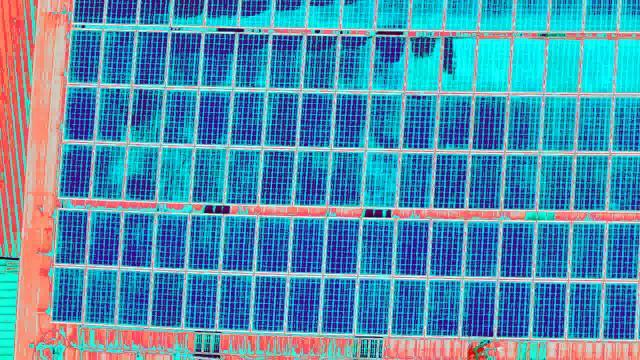dirty: (408, 38, 439, 90), (443, 38, 474, 90), (478, 38, 509, 90), (511, 39, 542, 91), (547, 40, 578, 92), (583, 39, 614, 91), (618, 39, 640, 92)
semi: (567, 283, 599, 338), (533, 281, 565, 336), (497, 281, 529, 336), (463, 279, 495, 334), (429, 281, 461, 336), (393, 278, 425, 333), (357, 279, 389, 334), (322, 278, 354, 333), (288, 277, 320, 332), (253, 276, 285, 331), (220, 275, 252, 330), (186, 273, 218, 328), (152, 272, 184, 327), (120, 269, 152, 324), (84, 269, 116, 324), (51, 266, 83, 321), (338, 35, 369, 91), (372, 37, 403, 93), (65, 85, 96, 141), (99, 87, 130, 143), (132, 87, 163, 143), (165, 88, 196, 144), (198, 90, 229, 146), (234, 91, 265, 147), (267, 91, 298, 147), (300, 91, 331, 147), (335, 94, 366, 150), (369, 92, 400, 148), (403, 93, 434, 149), (438, 95, 469, 151), (473, 93, 504, 149), (509, 95, 540, 151), (545, 94, 576, 150), (579, 94, 610, 150), (609, 153, 640, 209), (575, 153, 606, 209), (541, 153, 572, 209), (505, 155, 536, 211), (472, 153, 503, 209), (435, 152, 466, 208), (400, 152, 431, 208), (367, 151, 398, 207), (332, 150, 363, 206), (297, 150, 328, 206), (264, 148, 295, 204), (230, 147, 261, 203), (196, 147, 227, 203), (161, 144, 192, 200), (127, 144, 158, 200), (93, 144, 124, 200), (61, 142, 92, 198), (70, 28, 99, 84), (104, 29, 133, 85), (138, 29, 167, 85), (170, 31, 199, 87), (205, 32, 234, 88), (238, 33, 267, 89), (271, 35, 300, 91), (304, 34, 333, 90), (537, 223, 567, 277), (572, 223, 602, 277), (608, 223, 638, 277), (606, 283, 636, 337), (56, 210, 85, 264), (90, 211, 119, 265), (123, 212, 152, 266), (157, 214, 186, 268), (191, 216, 220, 270), (224, 217, 253, 271), (259, 218, 288, 272), (293, 219, 322, 273), (330, 219, 359, 273), (361, 220, 390, 274), (398, 220, 427, 274), (432, 222, 461, 276), (466, 222, 495, 276), (502, 223, 531, 277), (613, 95, 640, 150)
